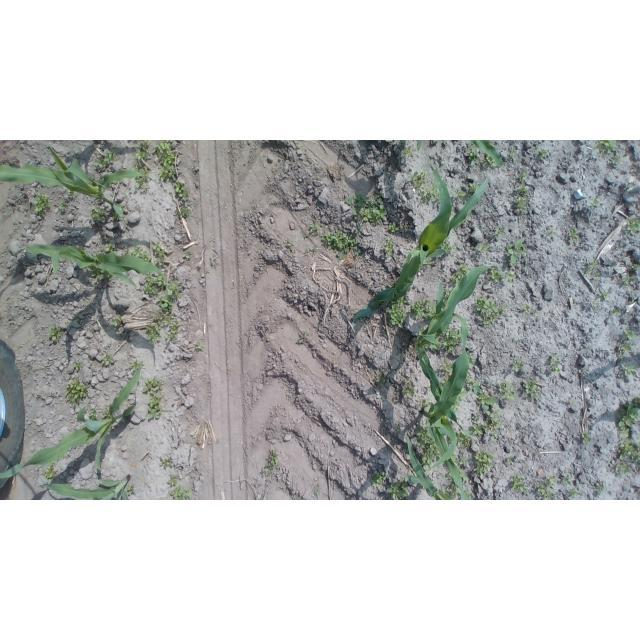Maize: (352, 166, 491, 329), (0, 369, 140, 479), (412, 266, 496, 435), (0, 146, 158, 219), (421, 314, 471, 500), (26, 244, 166, 287), (406, 434, 451, 500), (416, 140, 503, 169), (43, 477, 130, 500)
Weeds: (345, 193, 388, 229), (320, 230, 360, 261), (464, 373, 496, 411), (145, 315, 183, 345), (416, 424, 441, 468), (151, 141, 177, 182), (616, 396, 640, 437), (409, 171, 439, 203), (143, 376, 164, 420), (156, 282, 183, 315), (473, 296, 500, 324), (65, 379, 90, 408), (388, 296, 408, 328), (438, 328, 462, 353), (93, 151, 117, 174), (506, 238, 526, 265), (121, 244, 151, 262), (474, 450, 495, 475), (144, 272, 165, 296), (536, 476, 556, 501), (412, 299, 437, 319), (387, 480, 409, 501), (442, 474, 459, 500), (619, 441, 640, 462), (450, 263, 470, 285), (263, 451, 279, 478), (34, 192, 51, 217), (134, 165, 149, 193), (168, 484, 193, 500), (521, 380, 540, 401), (496, 383, 516, 402), (485, 410, 502, 431), (596, 140, 617, 156), (175, 179, 190, 201), (153, 242, 166, 267), (452, 391, 467, 412), (89, 267, 111, 281), (511, 476, 529, 493), (135, 141, 149, 162), (455, 432, 472, 449), (488, 265, 504, 283), (624, 217, 640, 235), (383, 235, 396, 257), (370, 472, 387, 488), (48, 324, 64, 341), (90, 206, 107, 222), (618, 342, 632, 360), (469, 145, 481, 165), (440, 239, 456, 254), (441, 289, 451, 311), (452, 187, 466, 202), (403, 380, 416, 396), (128, 360, 144, 373), (550, 356, 561, 373), (44, 465, 57, 479), (512, 359, 525, 373), (440, 360, 454, 373), (482, 157, 497, 169), (516, 197, 528, 212), (621, 363, 636, 375), (459, 467, 470, 483), (568, 228, 579, 244), (178, 206, 191, 219), (308, 222, 320, 236), (467, 351, 476, 369), (615, 463, 631, 473), (160, 456, 173, 468), (102, 353, 114, 366), (622, 275, 634, 287), (472, 422, 484, 434), (504, 271, 517, 282), (376, 374, 389, 385), (624, 329, 636, 340), (89, 408, 100, 420), (65, 187, 77, 198), (167, 476, 180, 486), (420, 398, 431, 409), (568, 487, 580, 497), (516, 185, 528, 195), (479, 242, 491, 252), (105, 243, 117, 253), (581, 432, 591, 443), (457, 456, 468, 466), (468, 183, 479, 193), (57, 201, 67, 212), (127, 484, 136, 496), (113, 314, 122, 326), (389, 222, 399, 232), (595, 483, 604, 494), (193, 343, 204, 352), (563, 477, 573, 486), (494, 228, 504, 237), (428, 343, 438, 352), (519, 171, 527, 182), (547, 227, 558, 235), (73, 362, 84, 370), (103, 408, 111, 419), (535, 150, 547, 157), (404, 148, 413, 157), (612, 156, 621, 165), (500, 305, 509, 314), (490, 433, 499, 442), (506, 457, 514, 466), (584, 267, 593, 275), (631, 263, 640, 271), (601, 292, 609, 301), (287, 242, 295, 250), (508, 149, 516, 157), (424, 259, 432, 267), (591, 259, 599, 267), (471, 413, 479, 421), (296, 336, 304, 344), (184, 251, 192, 259), (523, 304, 530, 313), (314, 488, 321, 496), (441, 376, 448, 384), (88, 174, 97, 180), (593, 198, 600, 205), (418, 328, 425, 335), (403, 221, 409, 229), (614, 309, 621, 315), (568, 401, 576, 406), (120, 204, 126, 210), (594, 300, 599, 307), (594, 273, 601, 278), (426, 387, 431, 394), (312, 247, 316, 255), (632, 297, 634, 303), (536, 453, 540, 456), (160, 497, 165, 499)
